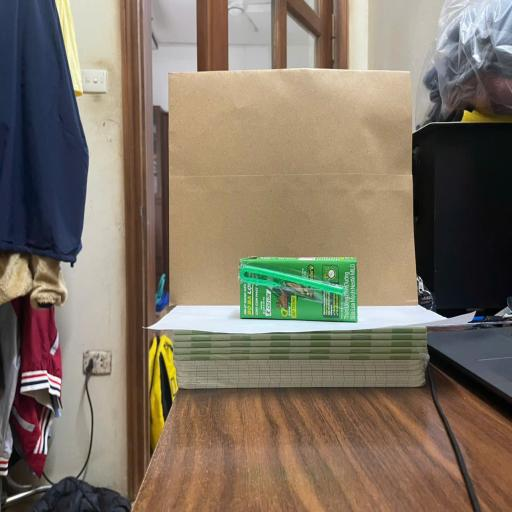milo: (239, 256, 358, 324)
